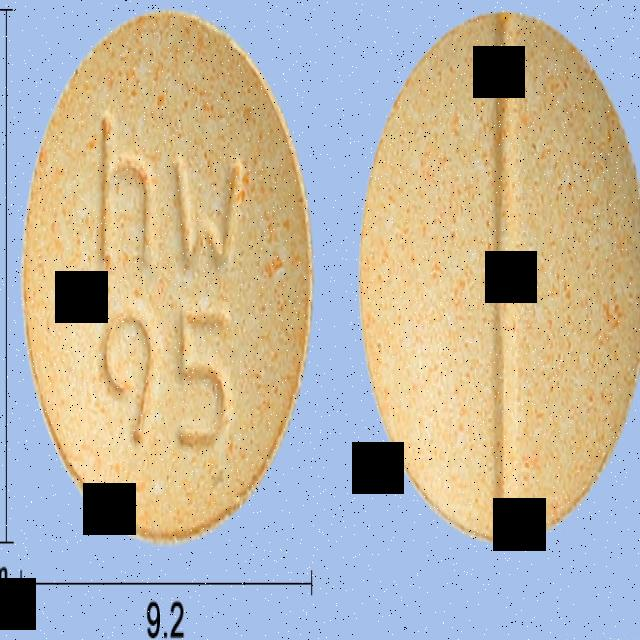Doxy: (19, 9, 317, 545)
